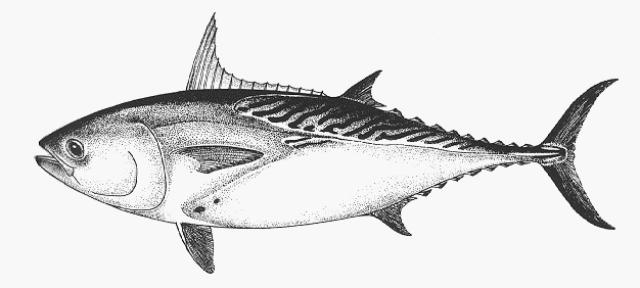Mulut: (22, 125, 70, 188)
Sirip Anal: (364, 194, 420, 240)
Sirip Dada: (172, 141, 270, 177)
Sirip Ekor: (538, 72, 622, 237)
Sirip Perut: (175, 219, 219, 277)
Sirip Punggung: (178, 4, 410, 118)
